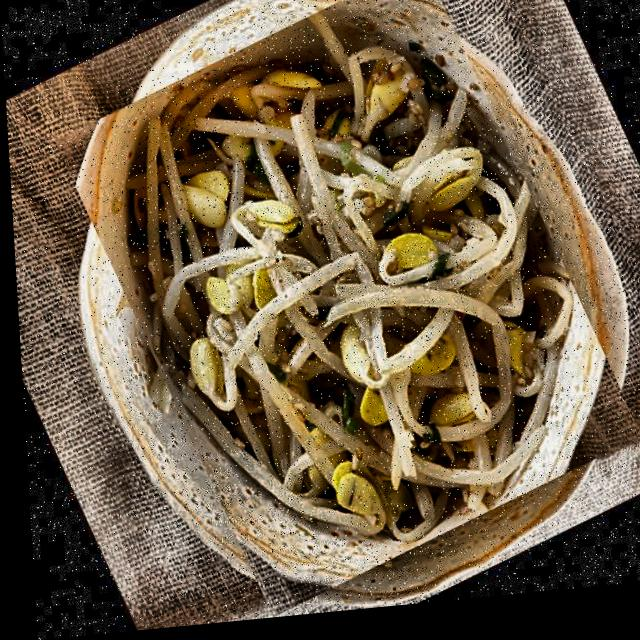Food: (46, 0, 640, 637)
